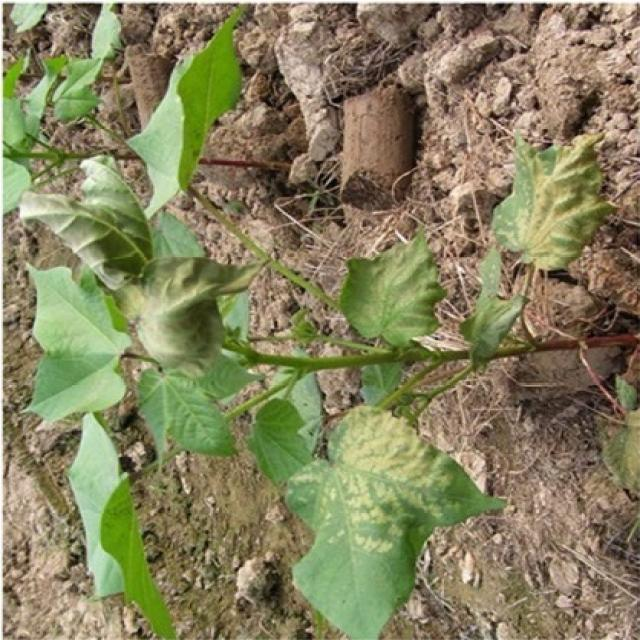Fusarium Wilt: (1, 1, 632, 640)
